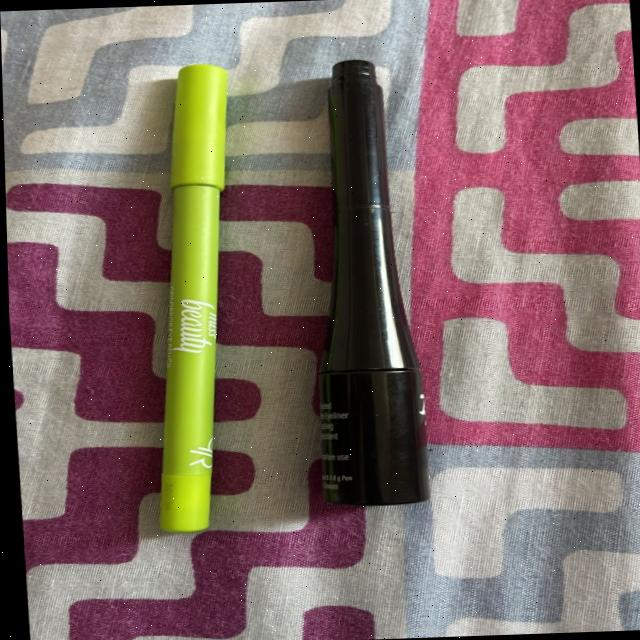eye liner: (78, 53, 272, 550), (255, 42, 451, 520)
